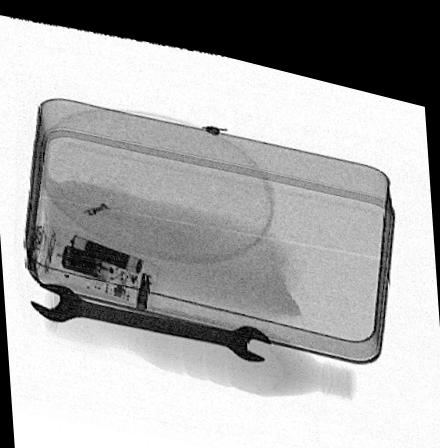Wrench: (28, 278, 277, 351)
